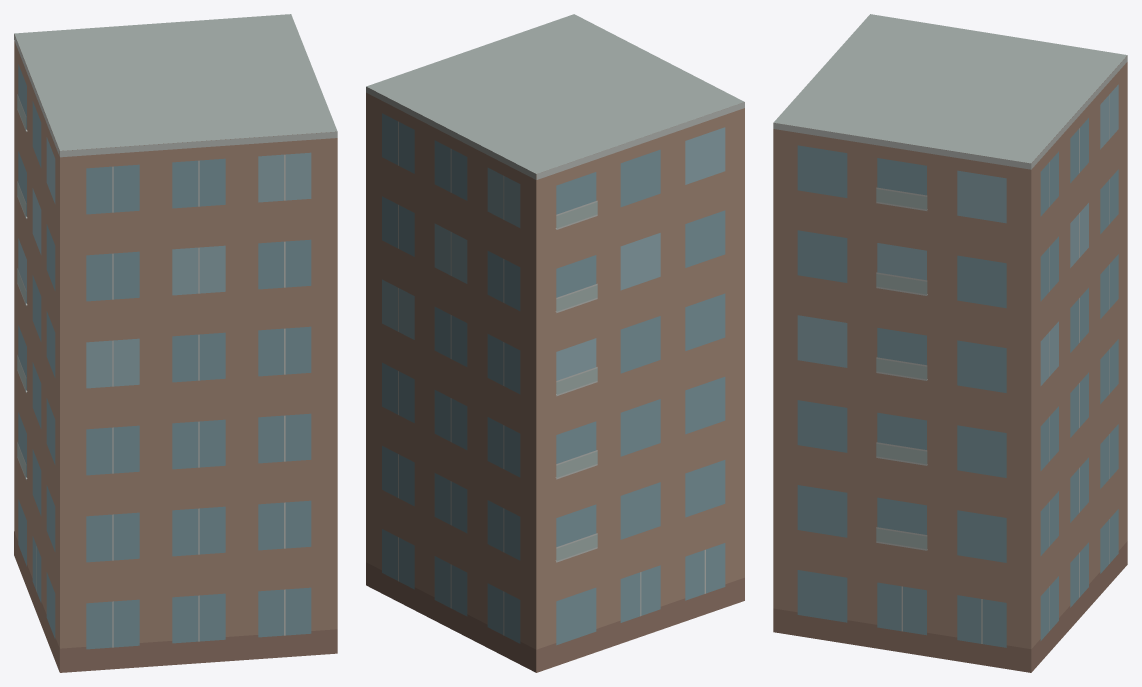
The model's file is survey-upis-32512512.glb.
The picture shows the model from 3 angles, left to right: view 1: azimuth 30°, elevation 25°; view 2: azimuth 150°, elevation 25°; view 3: azimuth 270°, elevation 25°; orthographic projection. The views are drawn at different scales.
Parts seen in each view (by area): view 1: survey-upis-32512512.tmp; view 2: survey-upis-32512512.tmp; view 3: survey-upis-32512512.tmp.
Boxes of the visible parts, left/top/right/bottom form: survey-upis-32512512.tmp: left=14, top=14, right=337, bottom=672; survey-upis-32512512.tmp: left=366, top=14, right=744, bottom=672; survey-upis-32512512.tmp: left=773, top=14, right=1127, bottom=672.
Size of the model in its own units: 12.59 by 20 by 12.62.
